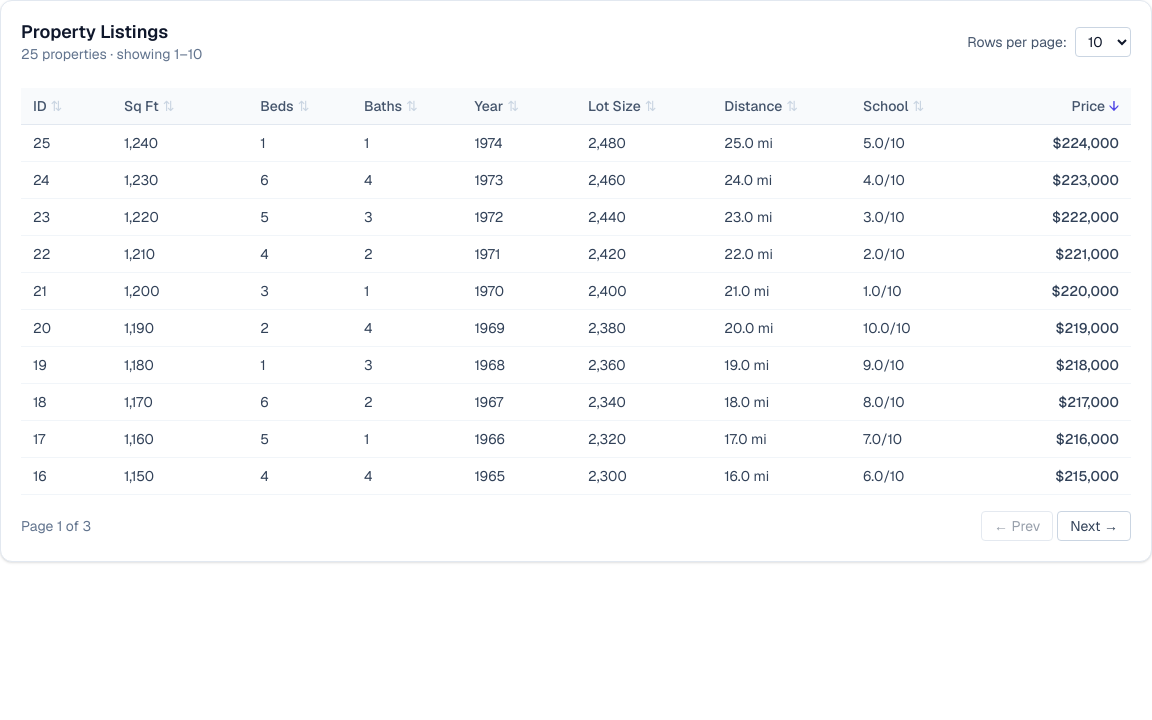
Scenario: DataTable › rendering › shows correct range description for last page
The width and height of the screenshot is (1152, 720).
Click the button with aria-label "next page". click: (1094, 526)
box: 1057,510 -> 1131,540
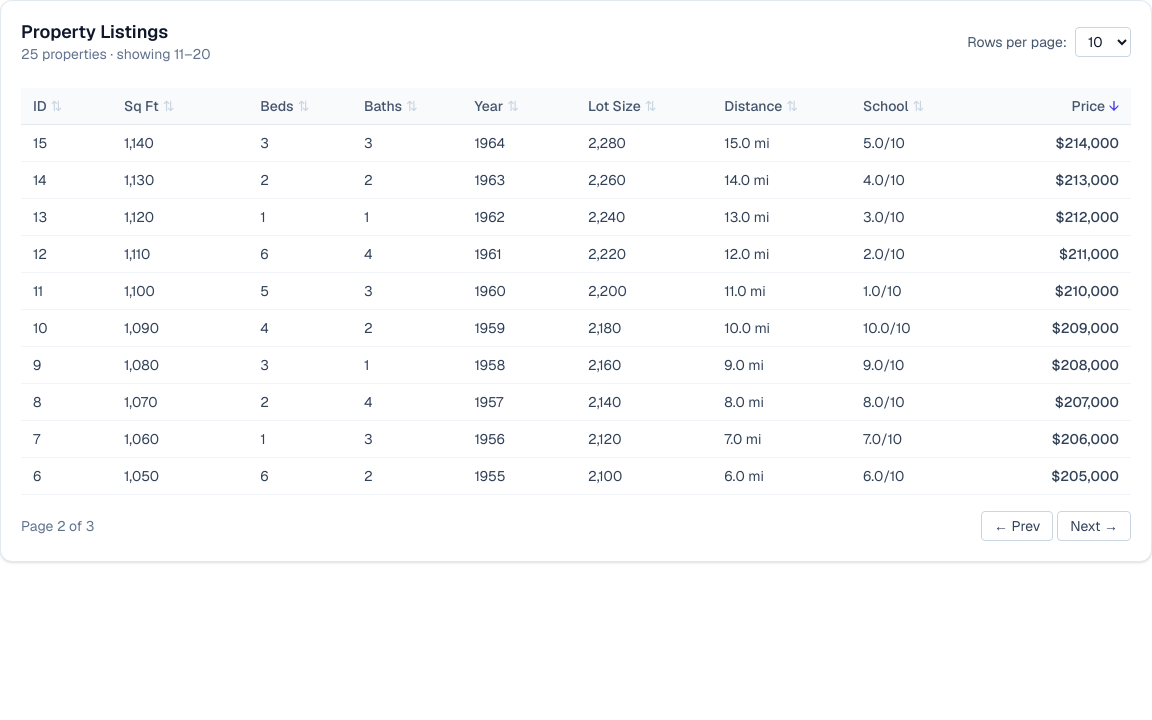
Click the button with aria-label "next page". click: (1094, 526)
box: 1057,510 -> 1131,540
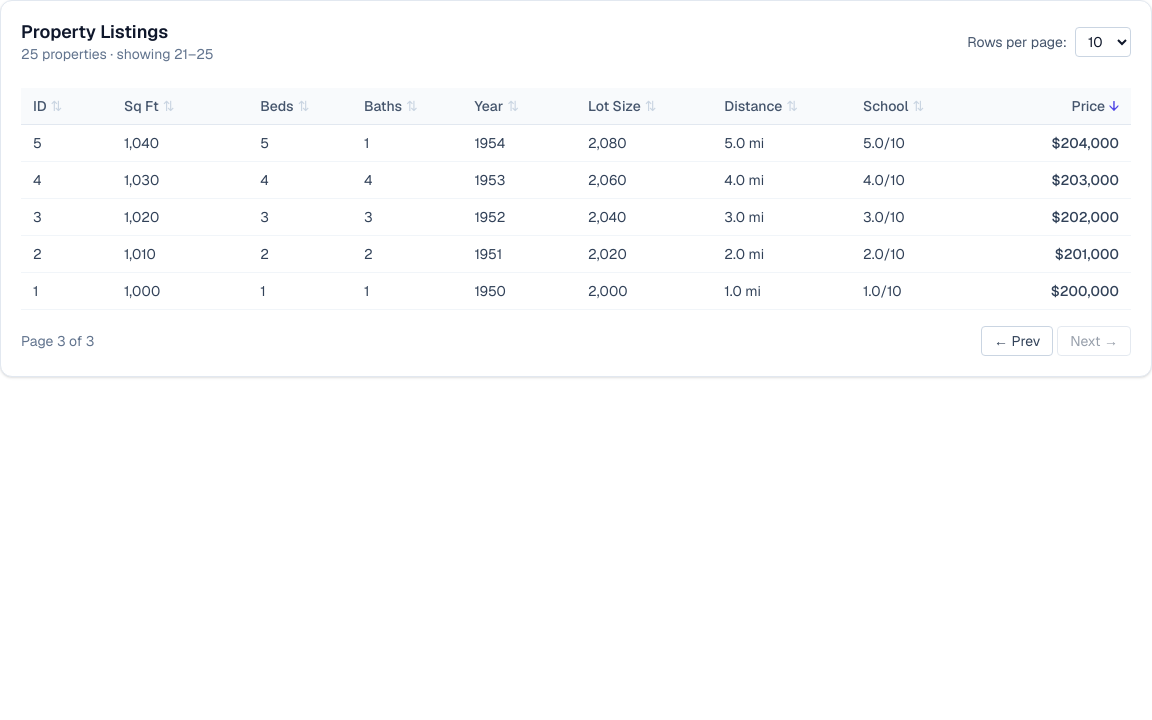
Expected: the text "25 properties · showing 21–25" is shown, 21,44 -> 214,64
